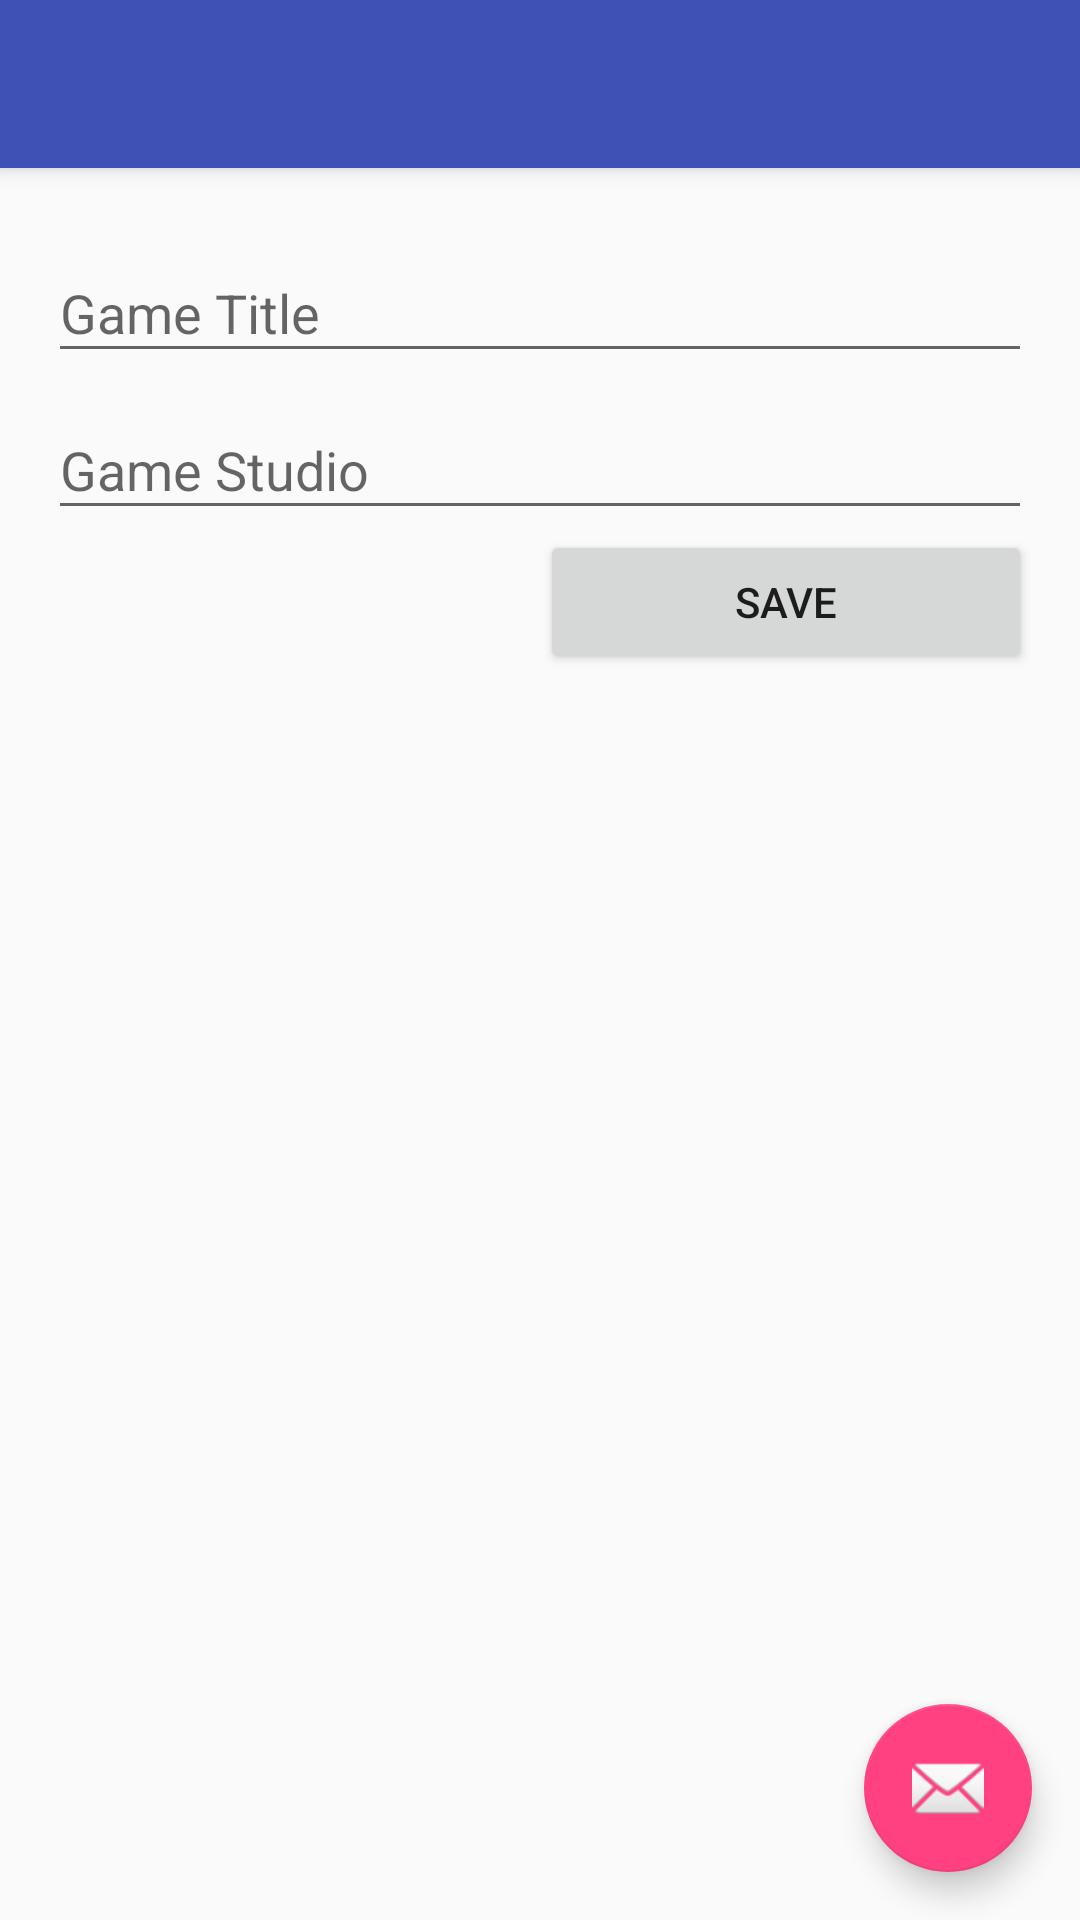

Icons on this 1080px×1920px Android screen, each with the point to tap as point (x, y):
email: point (948, 1788)
